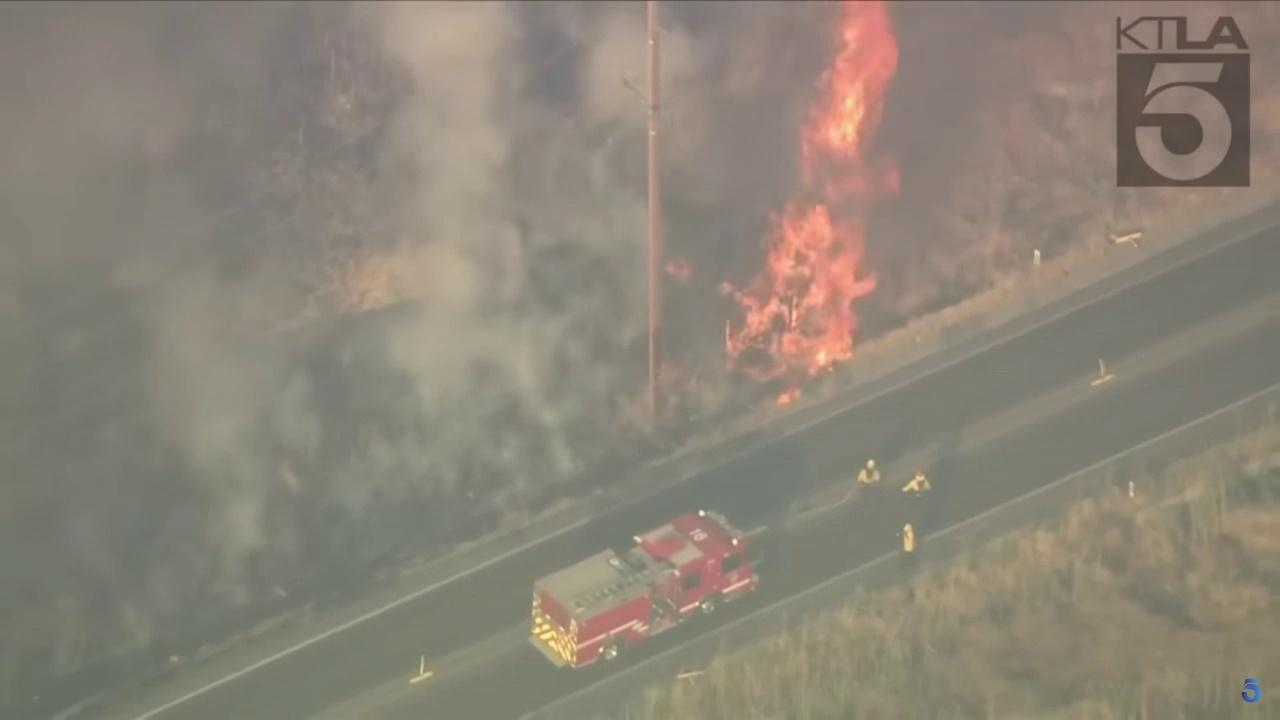fire: (718, 0, 902, 409), (663, 255, 696, 289)
smoke: (0, 0, 850, 720)
